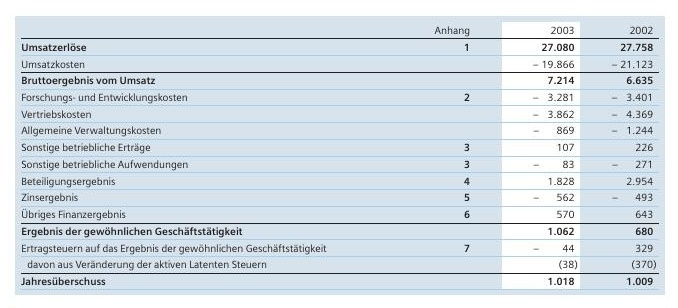table: (0, 0, 678, 308)
